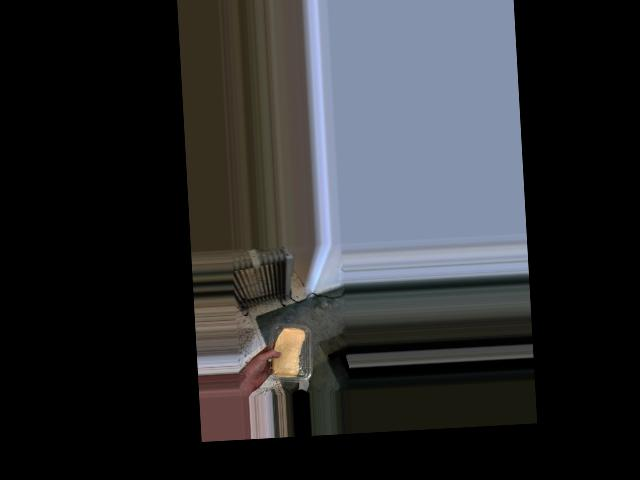cheese: (264, 319, 312, 383)
